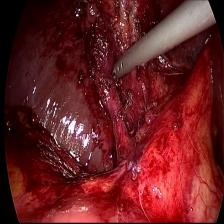Irrigator: (111, 46, 138, 82)
